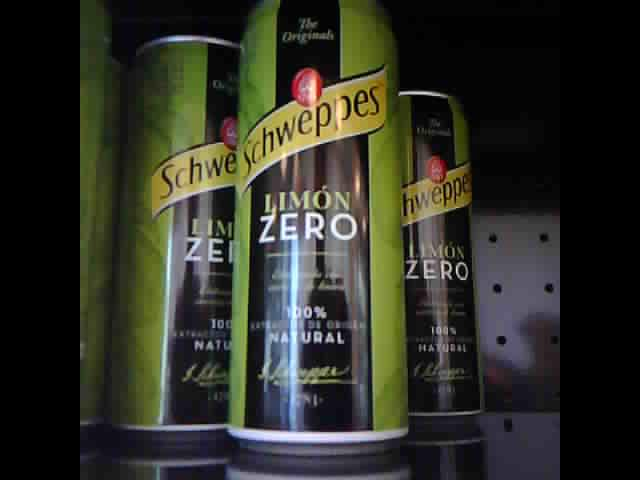schweppes: (224, 4, 402, 459), (104, 27, 232, 439), (401, 83, 481, 418)
